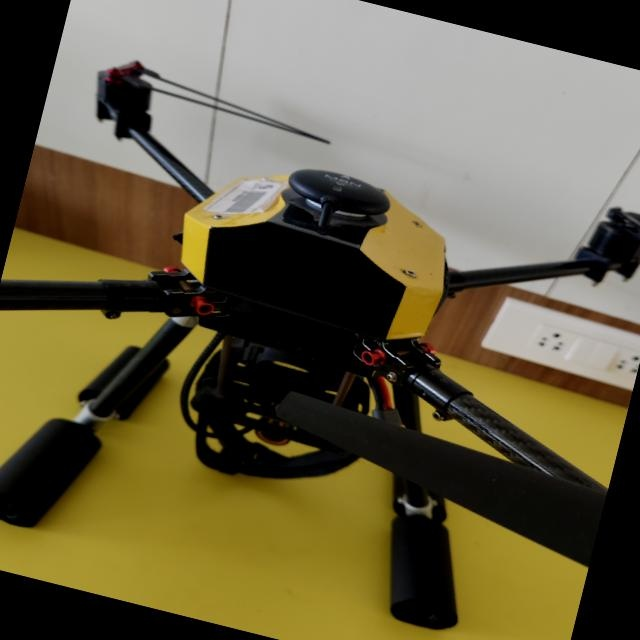quadcopter: (0, 30, 640, 640)
